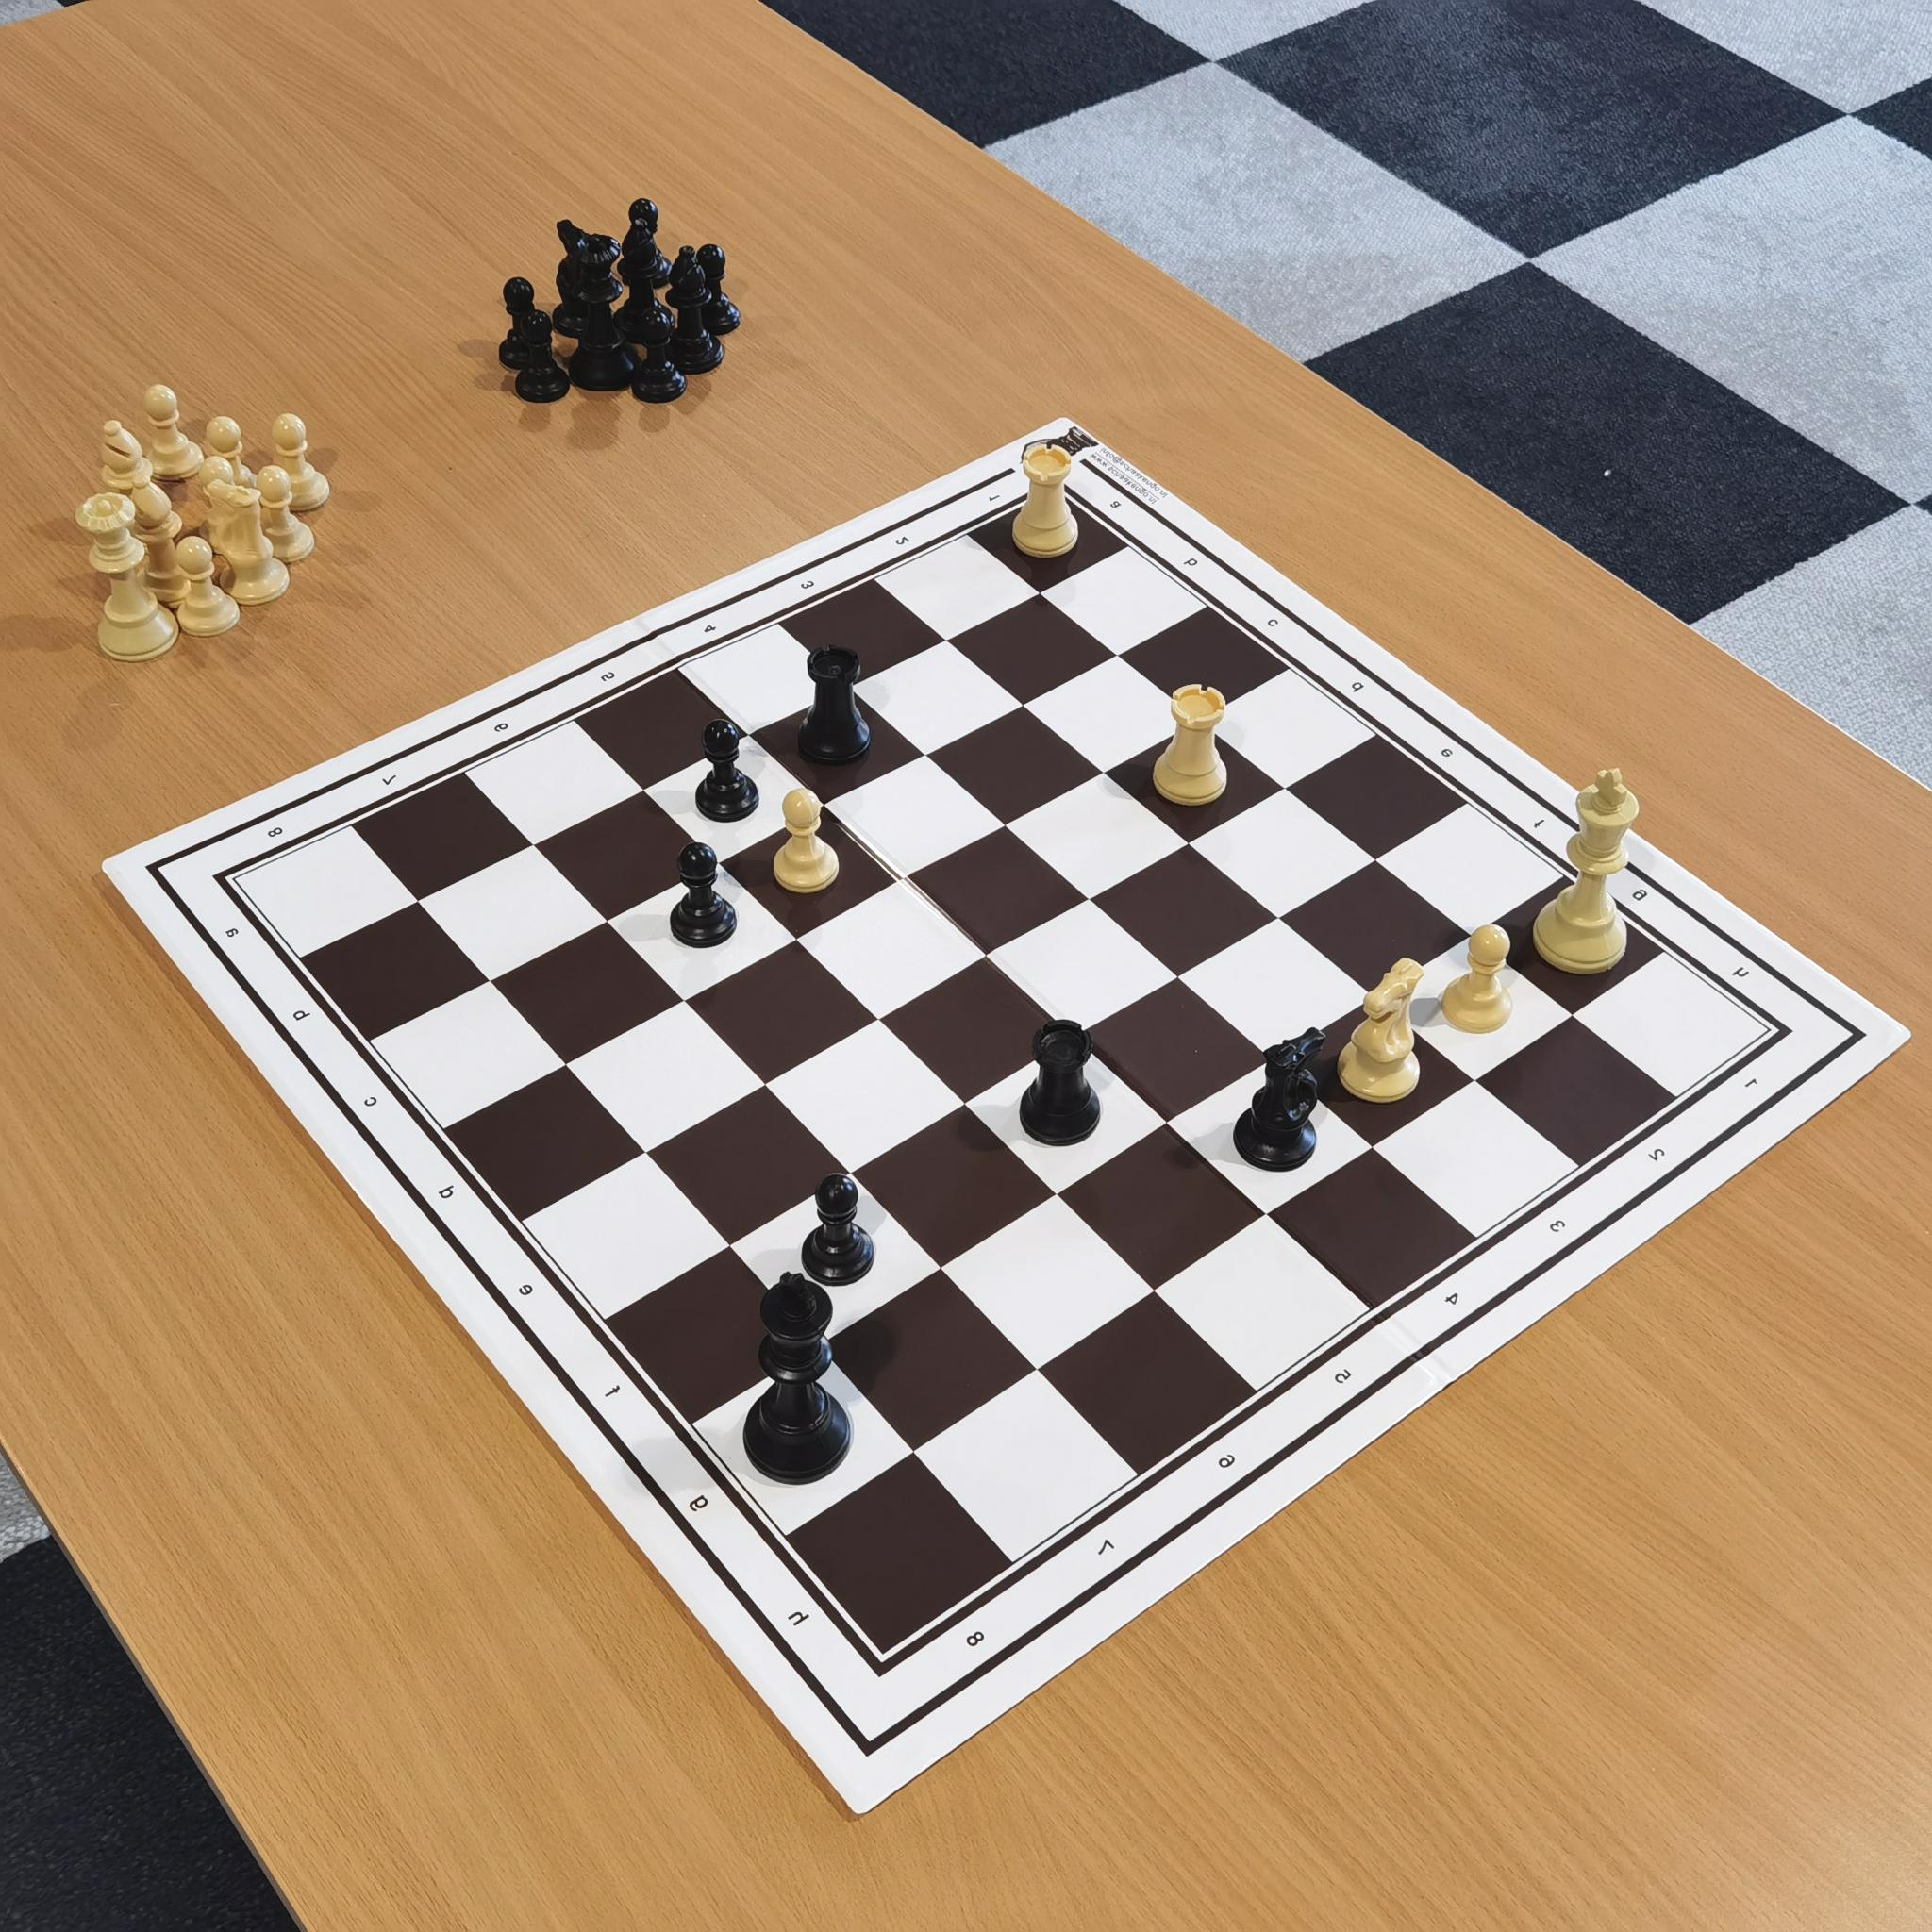corners: (842, 1637, 909, 1697), (196, 858, 262, 904), (1746, 1012, 1808, 1056), (1026, 465, 1079, 511)
eight: (954, 1614, 991, 1663), (253, 810, 295, 853)
one: (1727, 1062, 1767, 1100), (970, 483, 1005, 518)
